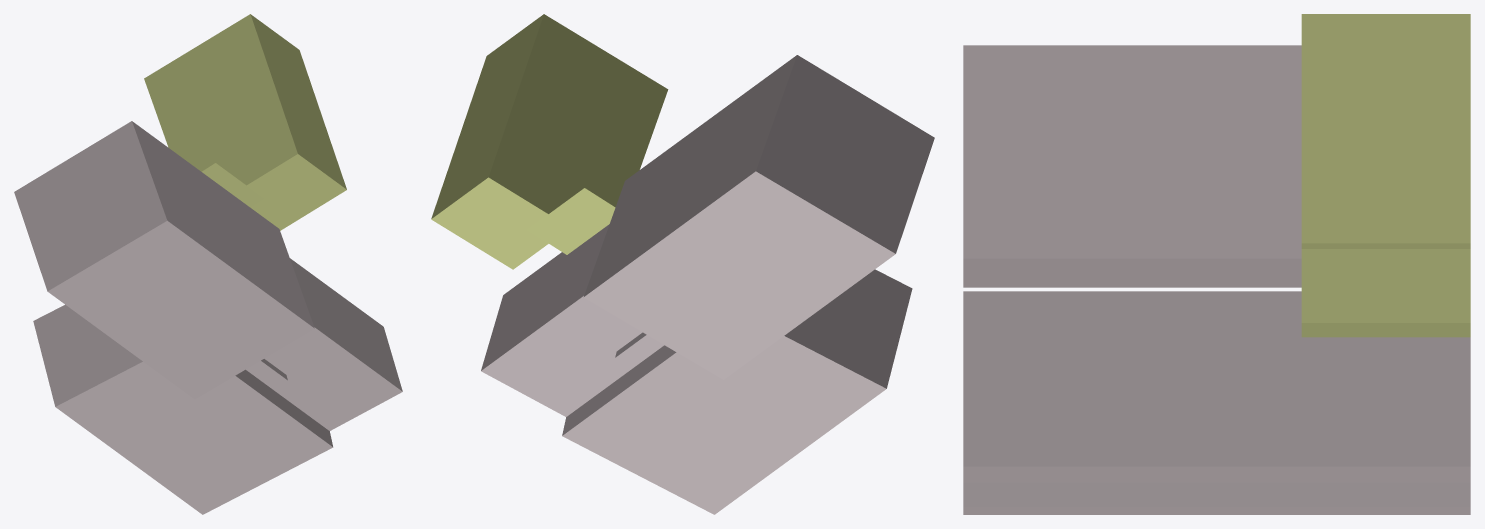
3 views of the same model, side by side, from view 1: azimuth 30°, elevation 25°; view 2: azimuth 150°, elevation 25°; view 3: azimuth 270°, elevation 25° (orthographic). The views are drawn at different scales.
Parts seen in each view (by area): view 1: 0_3_0_1_1_2_1_3_3_2; view 2: 0_3_0_1_1_2_1_3_3_2; view 3: 0_3_0_1_1_2_1_3_3_2.
Part boxes in pixels (x1=…): 0_3_0_1_1_2_1_3_3_2: x1=14, y1=14, x2=402, y2=514; 0_3_0_1_1_2_1_3_3_2: x1=431, y1=14, x2=934, y2=514; 0_3_0_1_1_2_1_3_3_2: x1=963, y1=14, x2=1470, y2=514.
Bounding box in the file's own units: 20 × 23.25 × 18.
